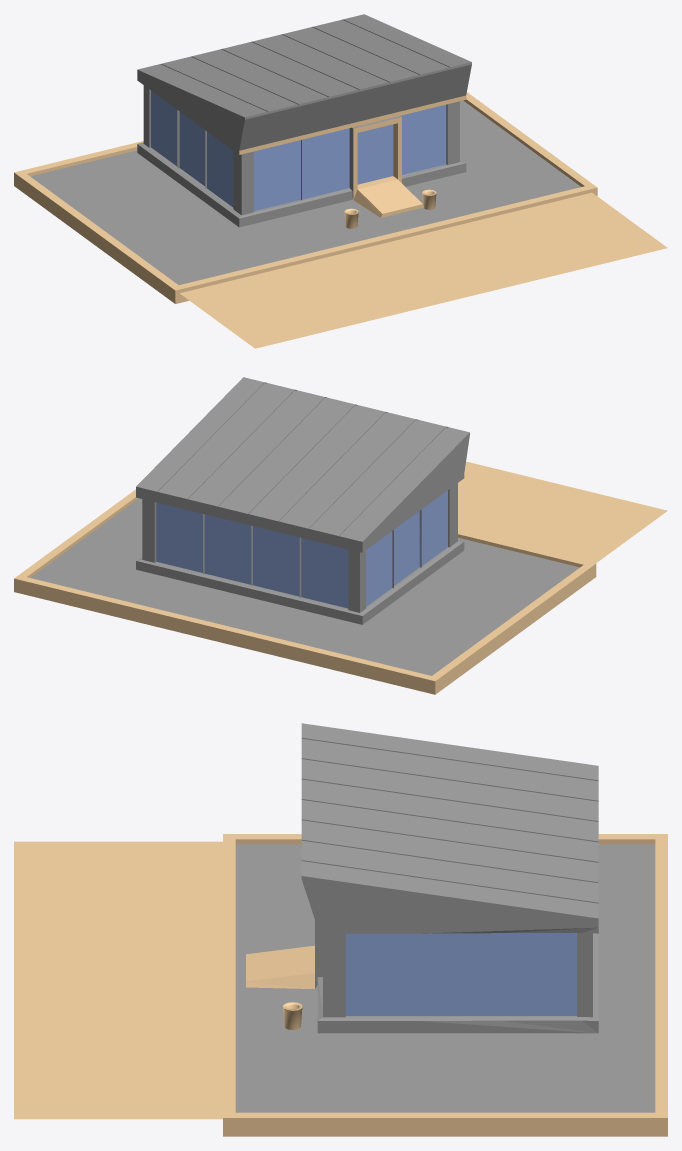
File: shop.glb
3 views of the same model, one above another, from view 1: azimuth 30°, elevation 25°; view 2: azimuth 150°, elevation 25°; view 3: azimuth 270°, elevation 25° (orthographic). The views are drawn at different scales.
Visible parts, largest first — view 1: Trash_2; view 2: Trash_2; view 3: Trash_2.
Boxes of the visible parts, x1,y1,x2,y2 form: Trash_2: (14, 14, 667, 348); Trash_2: (14, 377, 667, 694); Trash_2: (14, 723, 667, 1136).
Bounding box in the file's own units: 6.96 × 2.24 × 6.78.
